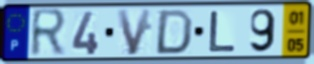4: (70, 9, 102, 57)
9: (248, 8, 277, 54)
D: (153, 8, 195, 56)
L: (207, 9, 238, 53)
R: (29, 7, 69, 60)
V: (114, 7, 155, 58)
